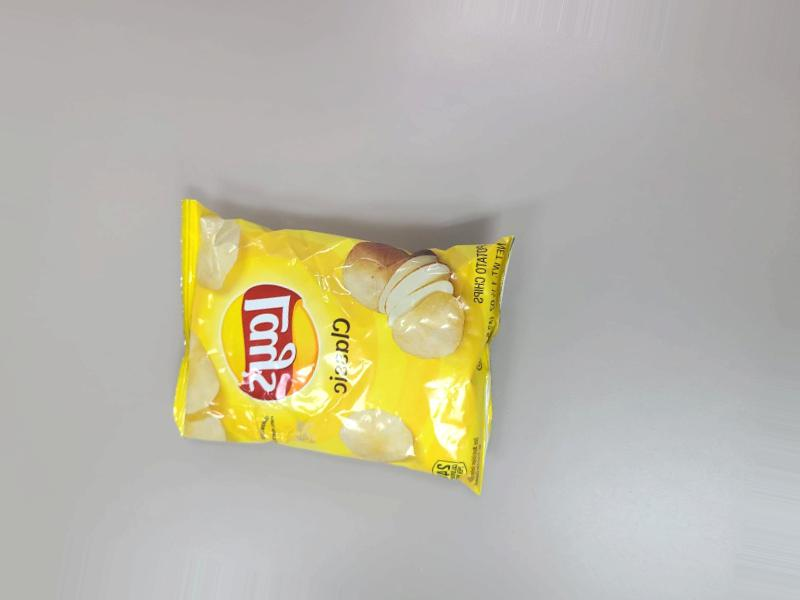lays: (162, 220, 522, 491)
